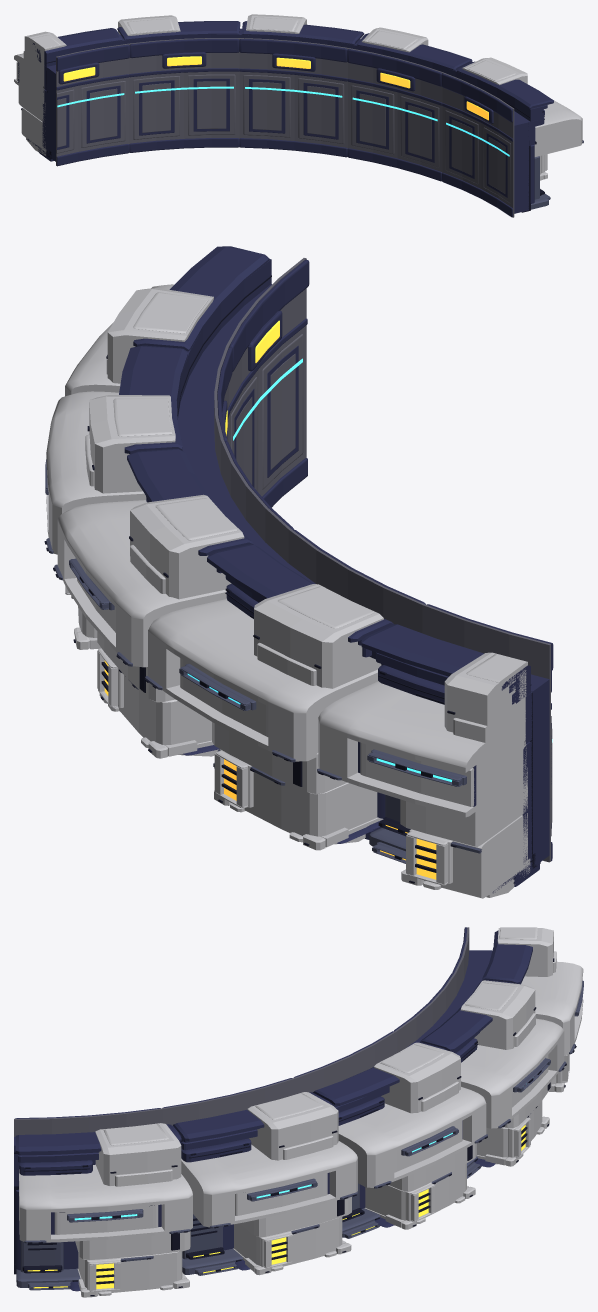
Rendered from hull.arc3.b.glb.
The picture shows the model from 3 angles, top to bottom: view 1: azimuth 30°, elevation 25°; view 2: azimuth 150°, elevation 25°; view 3: azimuth 270°, elevation 25°; orthographic projection. The views are drawn at different scales.
Parts seen in each view (by area): view 1: GEO-hull.arc3.b; view 2: GEO-hull.arc3.b; view 3: GEO-hull.arc3.b.
Boxes of the visible parts, bbox=[...] form: GEO-hull.arc3.b: bbox=[14, 14, 583, 217]; GEO-hull.arc3.b: bbox=[44, 246, 553, 898]; GEO-hull.arc3.b: bbox=[14, 927, 583, 1297].
Size of the model in its own units: 3.52 by 1 by 3.5.
